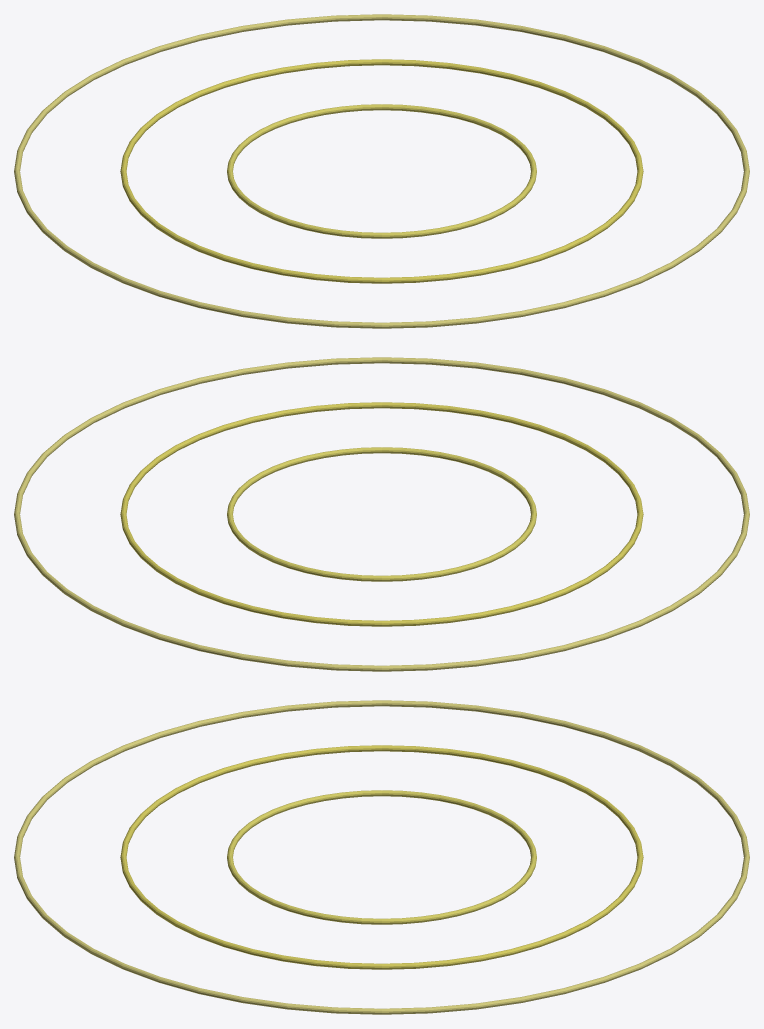
The model's file is circles.dae.
The picture shows the model from 3 angles, top to bottom: view 1: azimuth 30°, elevation 25°; view 2: azimuth 150°, elevation 25°; view 3: azimuth 270°, elevation 25°; orthographic projection.
Visible parts, largest first — view 1: Torus, Torus_004, Torus_003; view 2: Torus, Torus_004, Torus_003; view 3: Torus, Torus_004, Torus_003.
Boxes of the visible parts, x1=… form: Torus: x1=14, y1=14, x2=749, y2=328; Torus_004: x1=120, y1=59, x2=643, y2=283; Torus_003: x1=227, y1=104, x2=536, y2=238; Torus: x1=14, y1=357, x2=749, y2=671; Torus_004: x1=120, y1=402, x2=643, y2=626; Torus_003: x1=227, y1=447, x2=536, y2=581; Torus: x1=14, y1=700, x2=749, y2=1014; Torus_004: x1=120, y1=745, x2=643, y2=969; Torus_003: x1=227, y1=790, x2=536, y2=924.
Bounding box in the file's own units: 2.42 × 2.42 × 0.02.
